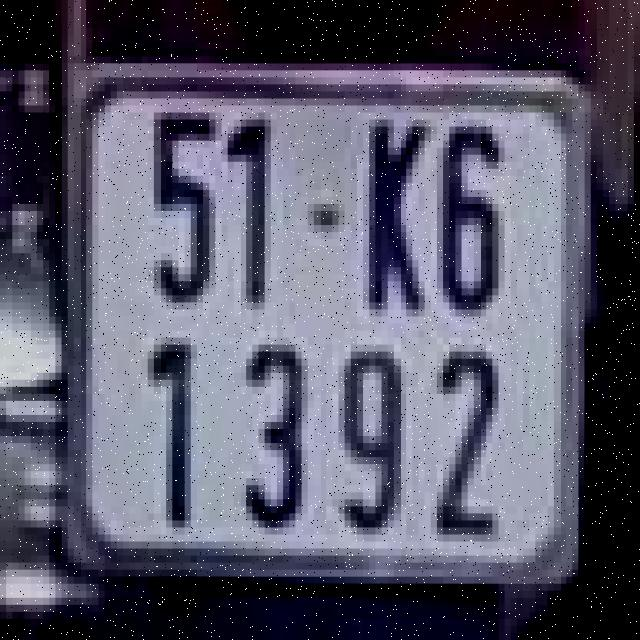1: (142, 324, 209, 548), (225, 91, 286, 316)
2: (424, 334, 504, 545)
3: (231, 330, 311, 542)
5: (132, 95, 225, 320)
6: (437, 106, 505, 310)
9: (330, 334, 416, 545)
K: (351, 95, 431, 313)
